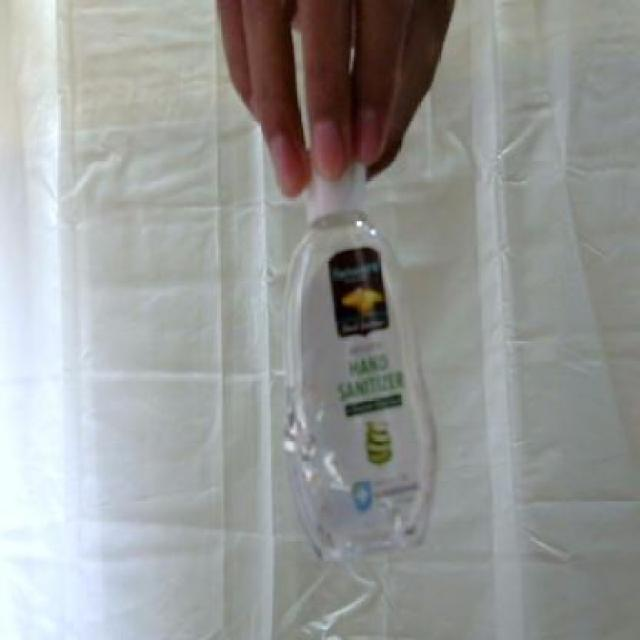Plastic: (284, 211, 438, 559)
